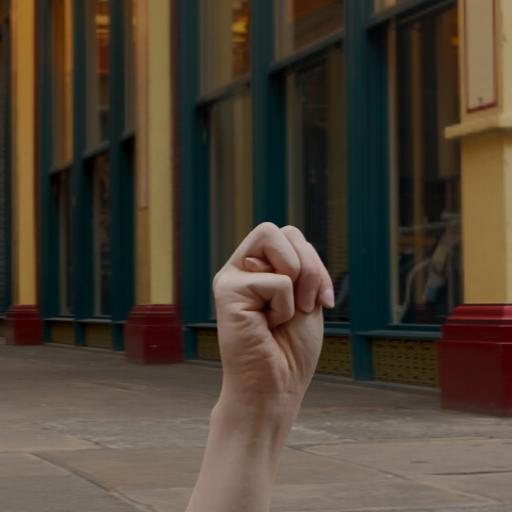M: (198, 206, 364, 412)
